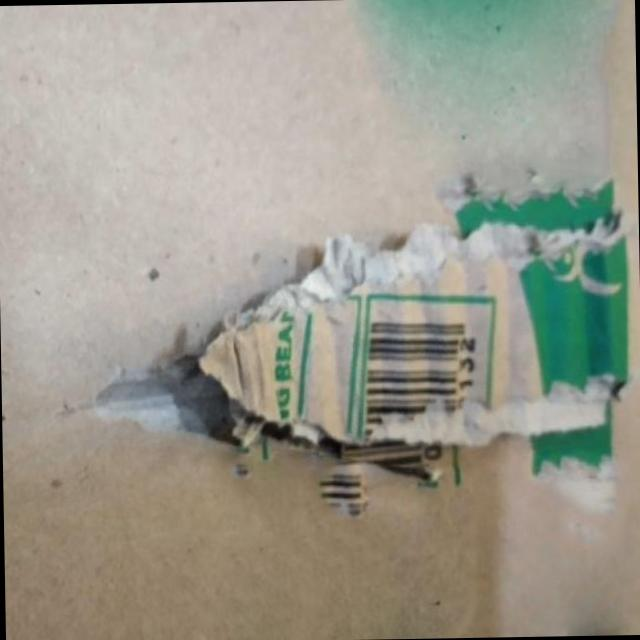box: (1, 1, 640, 640)
tear: (57, 182, 639, 498)
